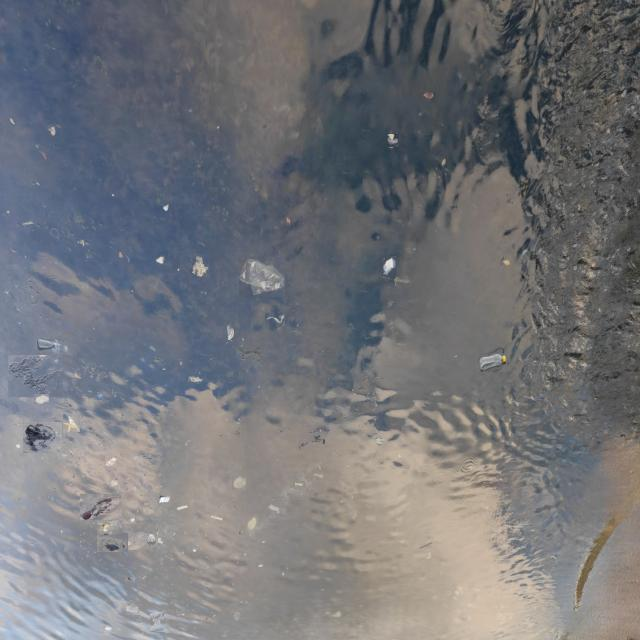Bottle cap: (96, 392, 102, 399)
Plastic: (192, 254, 209, 278), (382, 256, 396, 276), (150, 612, 164, 632), (265, 313, 285, 324), (246, 514, 258, 532), (268, 502, 281, 517), (386, 134, 399, 147), (125, 603, 139, 615), (374, 436, 385, 447), (188, 376, 202, 383), (156, 255, 165, 265), (156, 536, 164, 545), (110, 478, 118, 487), (163, 204, 169, 212), (130, 516, 136, 524), (104, 626, 112, 632)
Plastic bag: (8, 354, 63, 396), (239, 257, 285, 297), (23, 422, 62, 453), (80, 494, 122, 520), (126, 524, 158, 550), (97, 533, 128, 552), (97, 518, 122, 535), (34, 394, 49, 404)
Plastic bottle: (478, 353, 507, 372), (37, 338, 68, 354)
Plastic cup: (226, 324, 233, 340)
Plastic packaging: (63, 414, 80, 432), (158, 493, 171, 506), (105, 456, 117, 468), (294, 481, 304, 486)
Undefined trash: (232, 476, 246, 490)
